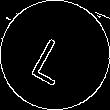L_NE: (29, 25, 81, 85)
